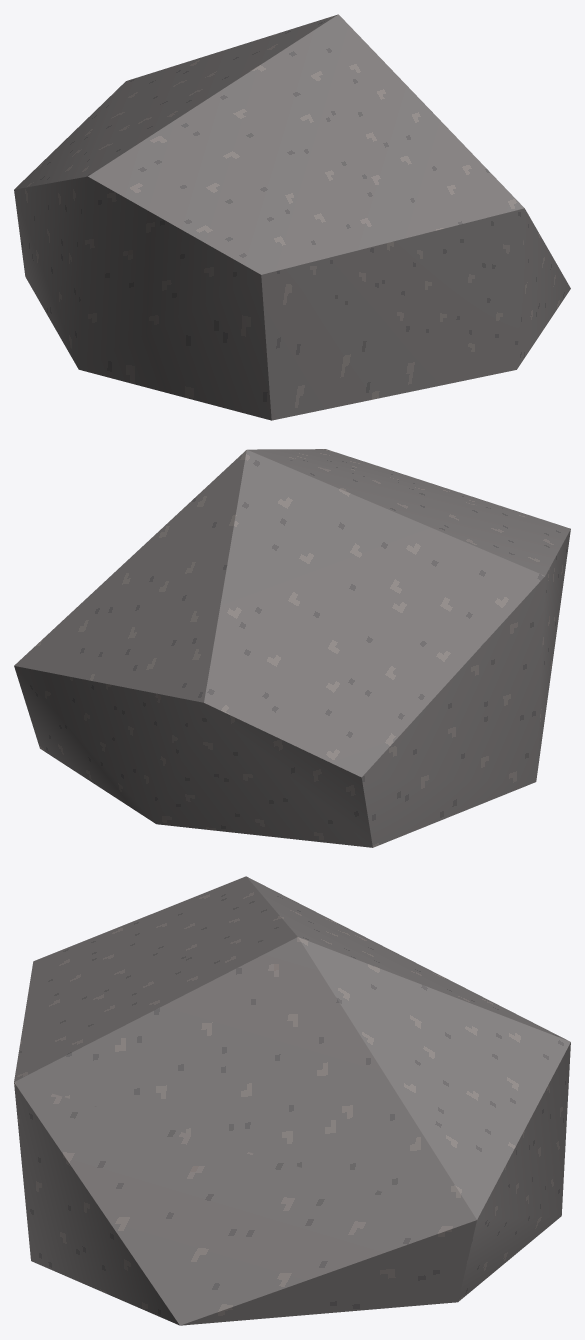
Rendered from 03aa_Black_Rock.glb.
The picture shows the model from 3 angles, top to bottom: view 1: azimuth 30°, elevation 25°; view 2: azimuth 150°, elevation 25°; view 3: azimuth 270°, elevation 25°; orthographic projection. The views are drawn at different scales.
Parts seen in each view (by area): view 1: part_0; view 2: part_0; view 3: part_0.
Boxes of the visible parts, <box> form: part_0: <box>14,14,570,420</box>; part_0: <box>14,449,570,847</box>; part_0: <box>14,876,570,1325</box>.
Size of the model in its own units: 0.1343 by 0.0787 by 0.134.
Materials: 1 (1 with a texture image).
